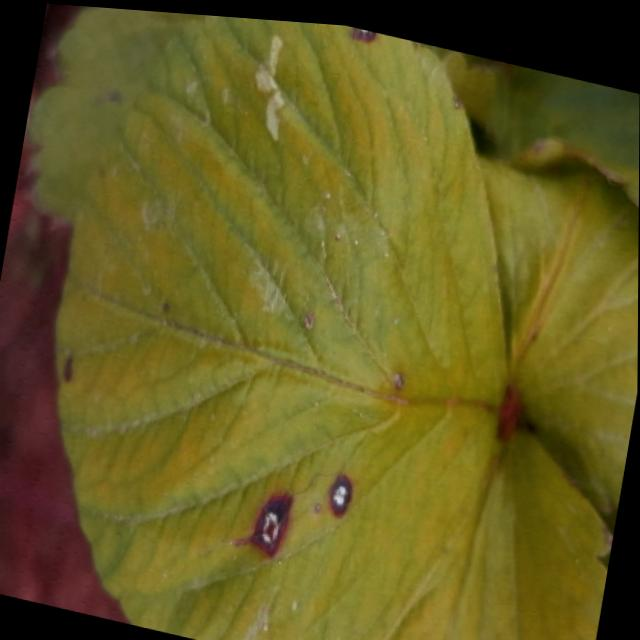Leaf Spot: (53, 12, 510, 640), (23, 5, 205, 225)
